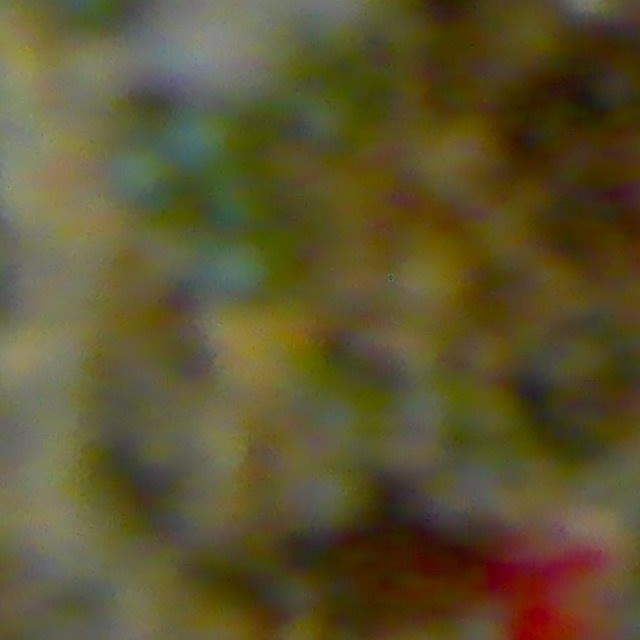SeaGrape: (393, 230, 475, 315), (283, 458, 371, 537), (163, 106, 243, 183), (197, 232, 276, 305), (103, 137, 173, 206), (588, 53, 640, 118)
